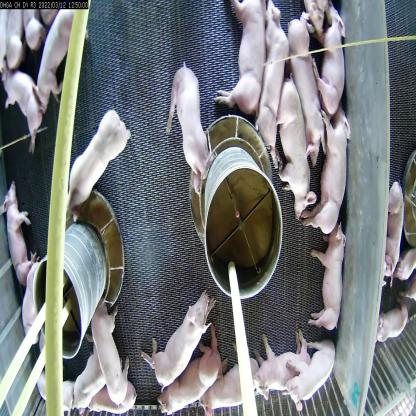Pig: (136, 282, 216, 390), (165, 62, 220, 200), (65, 111, 131, 219), (251, 0, 293, 155), (217, 0, 264, 120), (287, 13, 324, 164), (277, 73, 314, 221), (34, 10, 89, 106), (80, 297, 127, 404), (309, 226, 349, 339), (156, 342, 220, 410), (312, 0, 346, 125), (2, 63, 50, 151), (315, 113, 349, 236), (249, 330, 311, 394), (8, 248, 47, 349), (0, 167, 32, 278), (201, 355, 258, 415), (280, 332, 335, 374), (65, 348, 106, 404), (85, 383, 137, 415)
